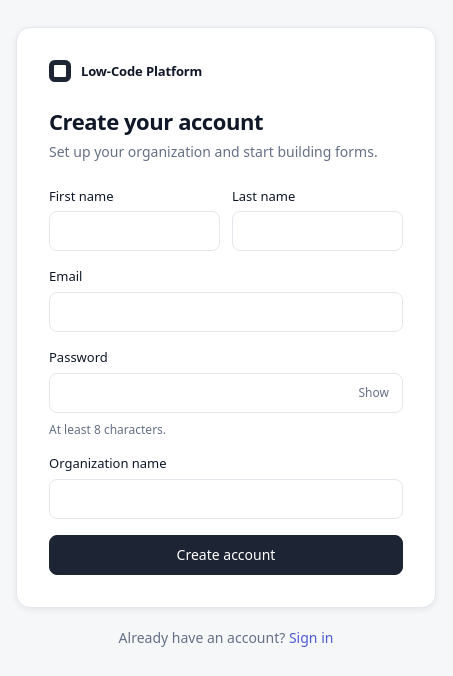
RegisterPage › validates the password against the backend policy
Expected: the heading "Create your account" is shown, [49, 106, 263, 136]
Type "Ada" into the field labelled "First name" at (134, 231), box [49, 211, 220, 251]
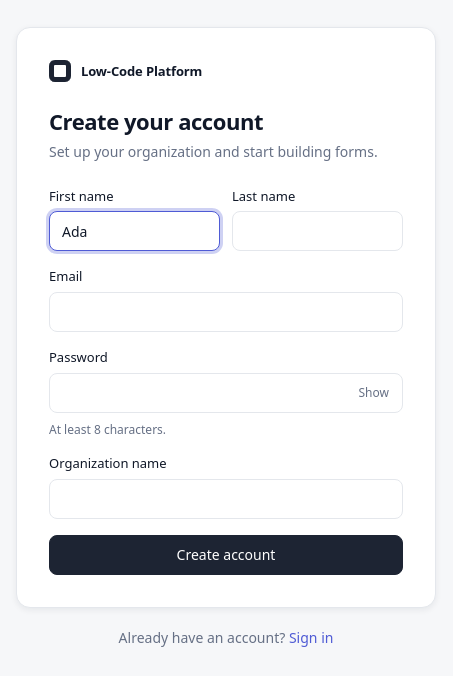
Type "Lovelace" into the field labelled "Last name" at (318, 231), box [232, 211, 403, 251]
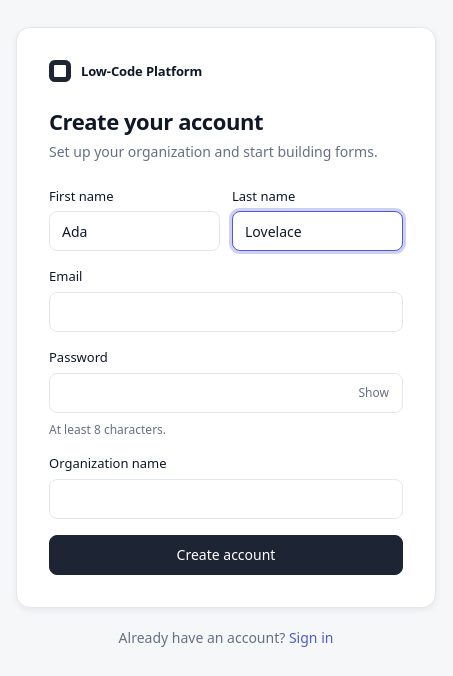
Type "ada@example.com" into the field labelled "Email" at (226, 312), box [49, 292, 403, 332]
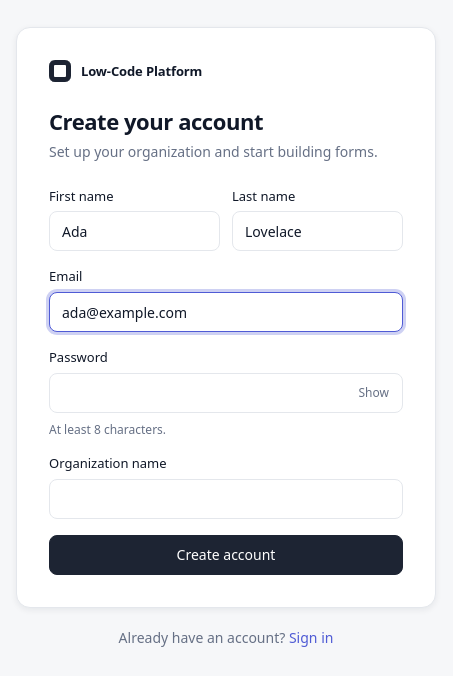
Type "short" into the password field labelled "Password" at (226, 393), box [49, 373, 403, 413]
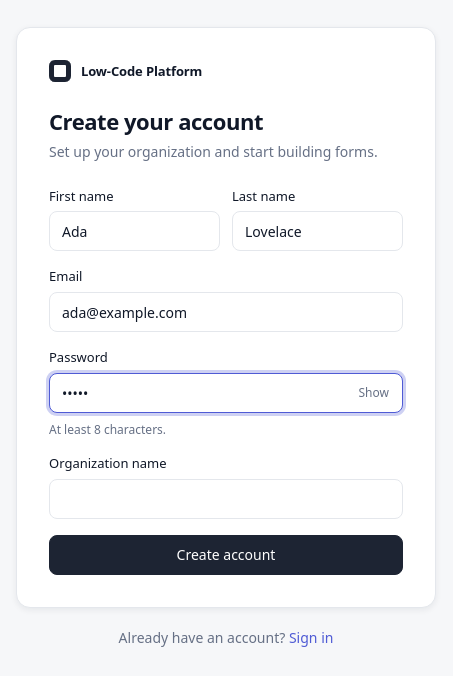
Type "Analytical Engines" into the field labelled "Organization name" at (226, 499), box [49, 479, 403, 519]
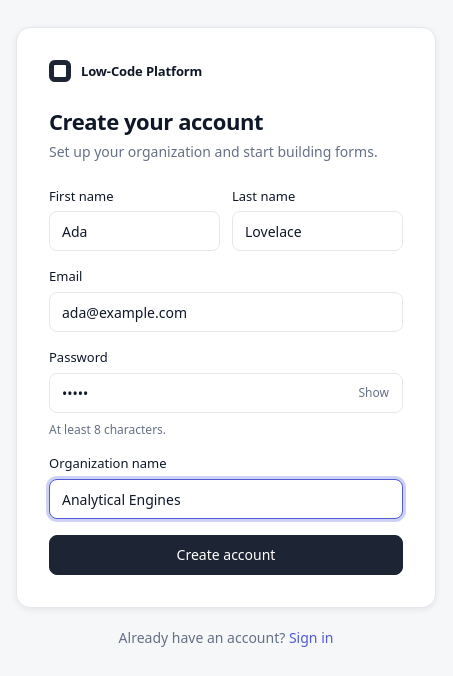
Click the button "Create account" at (226, 555), box [49, 535, 403, 575]
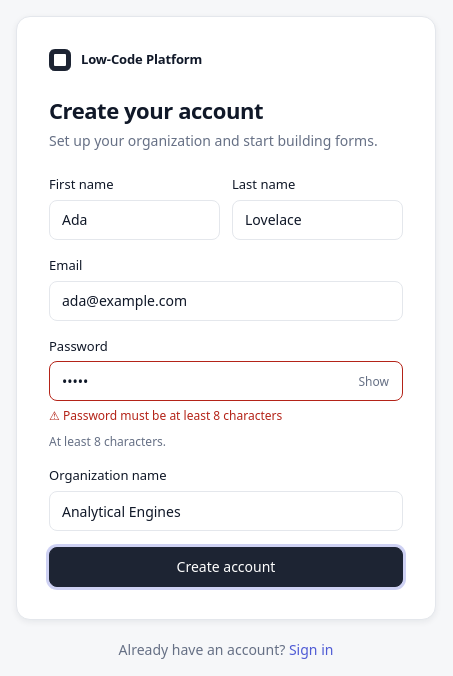
Result: the text "Password must be at least 8 characters" is shown at [63, 407, 282, 424]
